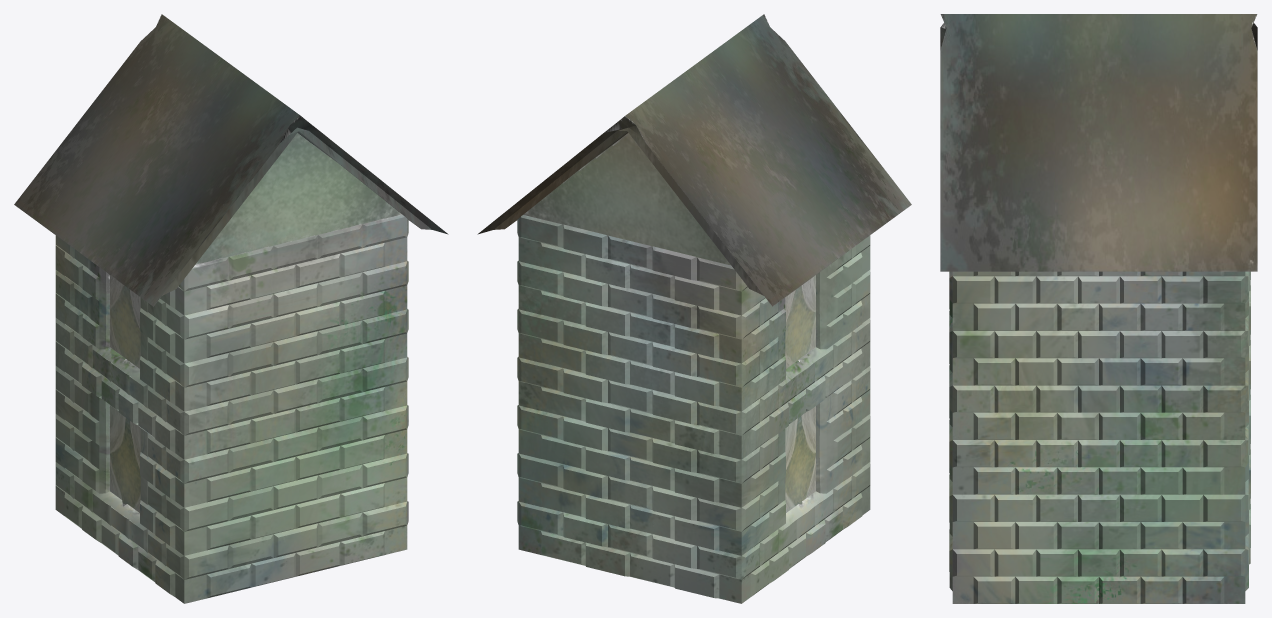
The model's file is maison_autre_colore.fbx.
3 views of the same model, side by side, from view 1: azimuth 30°, elevation 25°; view 2: azimuth 150°, elevation 25°; view 3: azimuth 270°, elevation 25° (orthographic). The views are drawn at different scales.
Visible parts, largest first — view 1: maison, toit, haut_toit; view 2: maison, toit, haut_toit; view 3: maison, toit.
Part boxes in pixels (x1=…): maison: x1=55, y1=214, x2=408, y2=603; toit: x1=14, y1=14, x2=448, y2=306; haut_toit: x1=195, y1=133, x2=401, y2=264; maison: x1=517, y1=215, x2=870, y2=603; toit: x1=477, y1=14, x2=911, y2=306; haut_toit: x1=523, y1=133, x2=730, y2=265; maison: x1=949, y1=271, x2=1250, y2=603; toit: x1=940, y1=14, x2=1257, y2=271.
Bounding box in the file's own units: 12.57 × 18.88 × 10.27.
